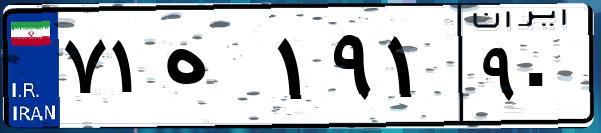0: (525, 38, 570, 115)
1: (270, 28, 330, 110), (385, 28, 445, 110), (110, 28, 158, 98)
7: (57, 26, 110, 100)
9: (330, 28, 385, 110), (475, 38, 525, 113)
ه: (158, 20, 270, 120)
